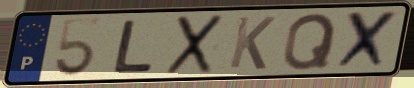5: (52, 16, 110, 79)
K: (226, 14, 278, 71)
L: (110, 18, 156, 75)
Q: (279, 11, 339, 73)
X: (331, 8, 401, 72), (163, 12, 228, 77)
